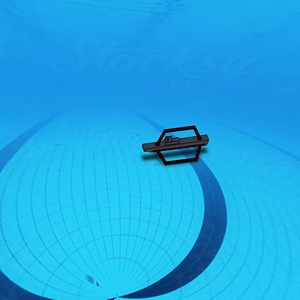submarine: (142, 122, 209, 173)
